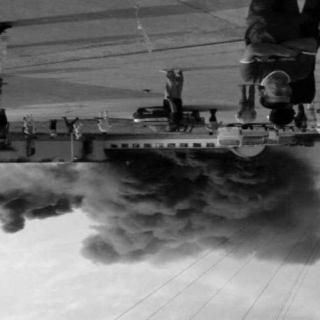Fire: (100, 140, 222, 151)
Smoke: (12, 162, 316, 262)
